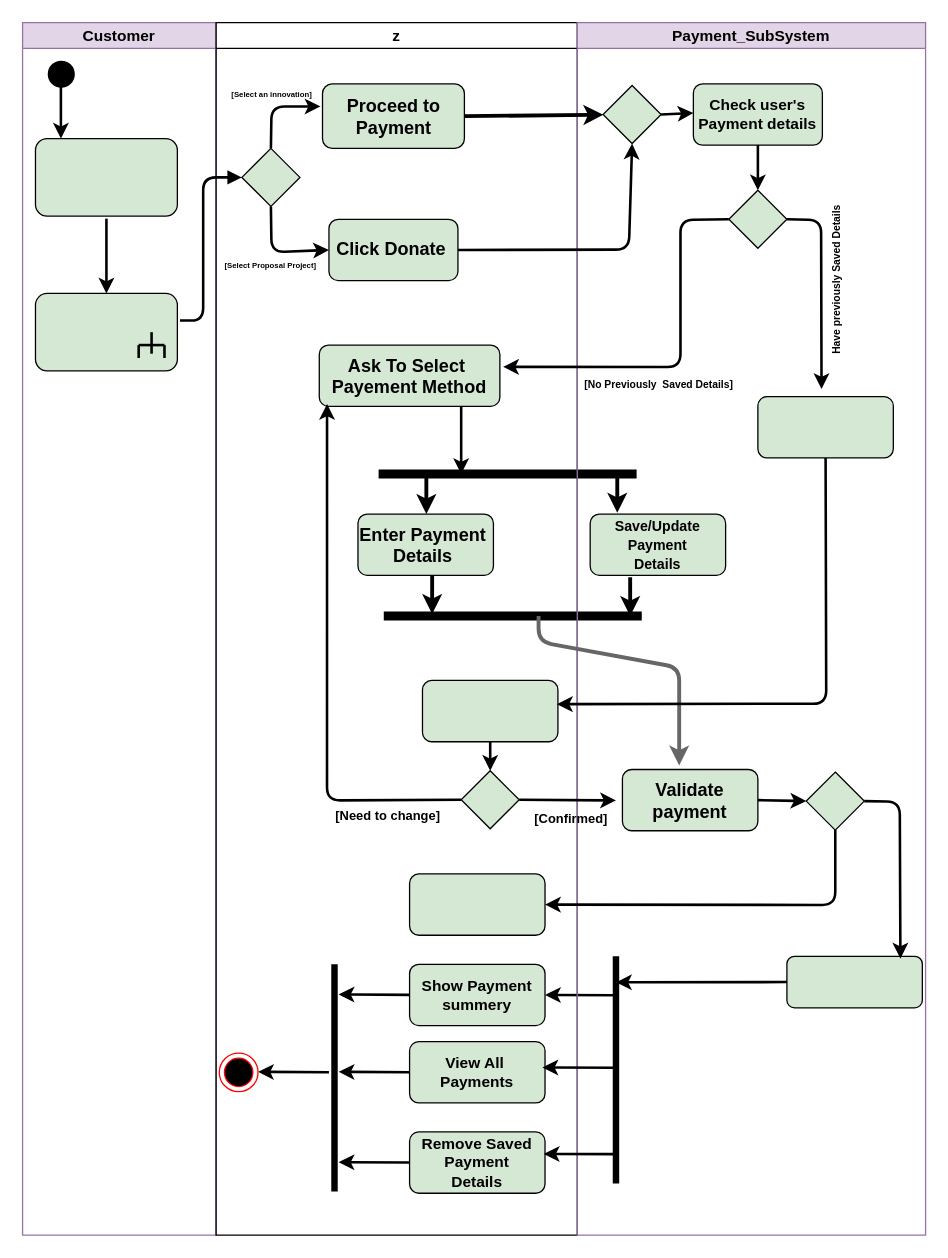
This 948x1258 diagram has some shape labels left out. The shapes that lost their labels are listed below. From the top down, each one's box as (x1, y1, x2, y2) in pixels, then its label:
(34, 137, 177, 216): Click Login
(34, 292, 177, 371): Login
(757, 395, 893, 458): Load Payment Details
(421, 679, 558, 742): Ask to confirm
(408, 873, 545, 935): Display Error Message
(786, 955, 922, 1008): Save Transaction Details to DB
